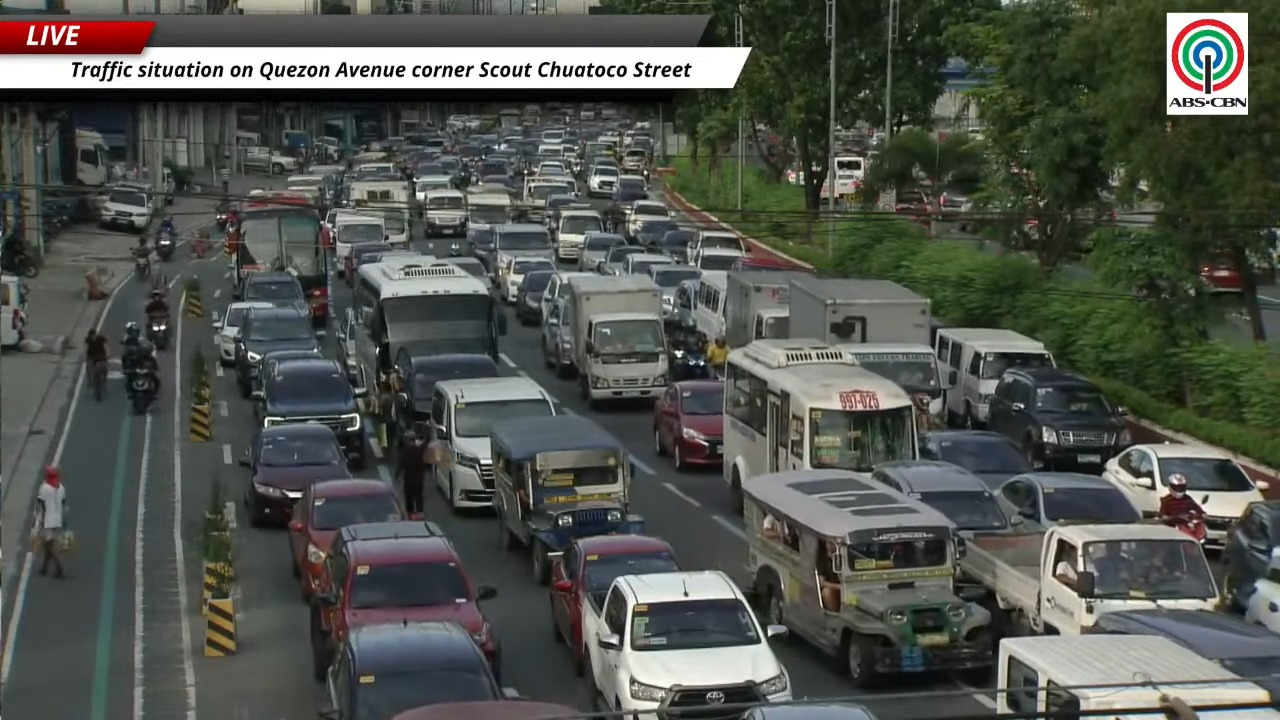bus: (721, 339, 917, 510), (352, 256, 505, 387), (227, 193, 330, 327), (692, 271, 727, 339)
car: (583, 571, 791, 717), (311, 521, 499, 678), (319, 619, 506, 719), (550, 534, 680, 676), (1102, 443, 1269, 544), (431, 376, 555, 509), (1092, 608, 1279, 696), (987, 367, 1131, 469), (288, 478, 406, 599), (252, 358, 365, 468), (240, 425, 349, 526), (871, 460, 1021, 532), (392, 349, 500, 441), (997, 473, 1141, 528), (235, 309, 318, 398), (920, 430, 1033, 489), (653, 380, 724, 470), (1221, 500, 1279, 609), (390, 696, 578, 719), (213, 302, 273, 366), (251, 349, 322, 396), (1238, 555, 1279, 633), (234, 271, 308, 312), (648, 264, 700, 320), (540, 297, 574, 378), (539, 271, 592, 319), (501, 256, 554, 304), (99, 184, 152, 232), (739, 702, 877, 719), (514, 269, 555, 325), (335, 307, 364, 386), (343, 242, 391, 285), (578, 232, 626, 271), (626, 200, 670, 239), (633, 218, 678, 253), (1198, 257, 1242, 292), (357, 248, 421, 272), (596, 244, 643, 275), (731, 255, 811, 273), (466, 222, 493, 274), (689, 247, 745, 271), (660, 229, 696, 264), (614, 173, 648, 209), (622, 252, 674, 275), (610, 176, 647, 205), (587, 165, 620, 197), (445, 256, 487, 278)
motorcycle: (670, 348, 713, 381), (0, 242, 38, 277), (129, 371, 156, 414), (1171, 513, 1206, 543), (147, 318, 168, 350), (155, 234, 175, 261), (134, 253, 150, 280), (450, 242, 461, 256)
truck: (959, 523, 1217, 637), (789, 275, 954, 426), (567, 275, 668, 405), (789, 275, 931, 346), (725, 270, 806, 347), (348, 180, 414, 246), (74, 128, 110, 187), (240, 145, 299, 174)
